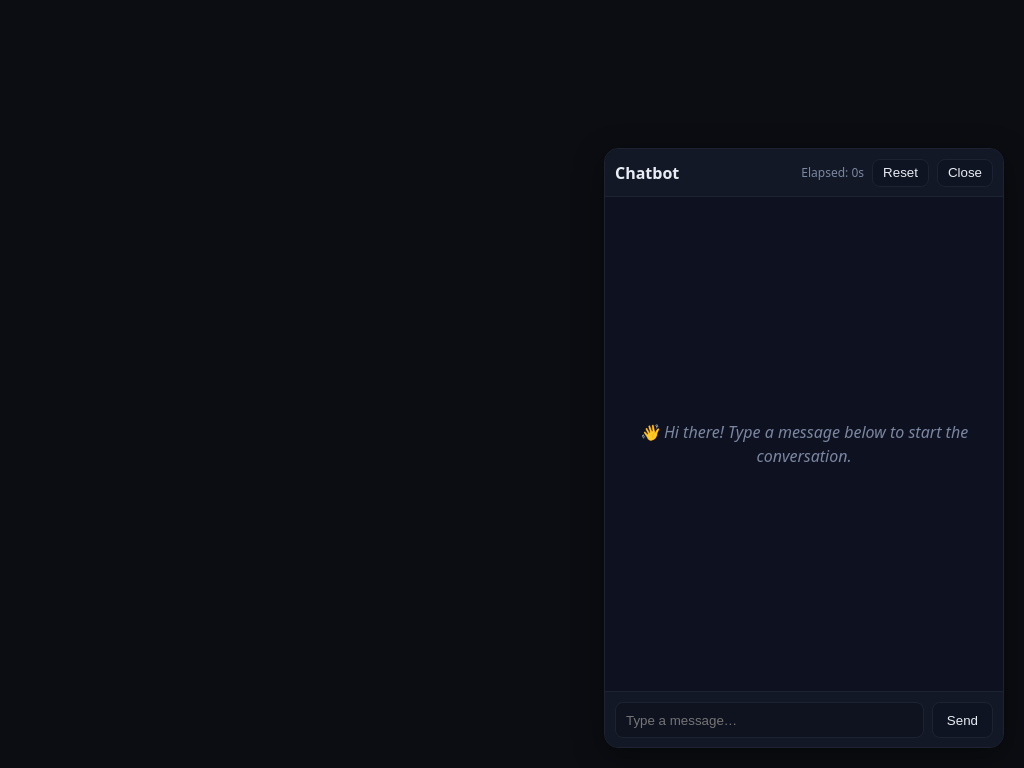
Test case: ChatWindow › sends on Enter (no Shift)
The width and height of the screenshot is (1024, 768).
Type "Ping" into the field labelled "Type a message…" at {"x": 769, "y": 720}, box [615,702,924,738]
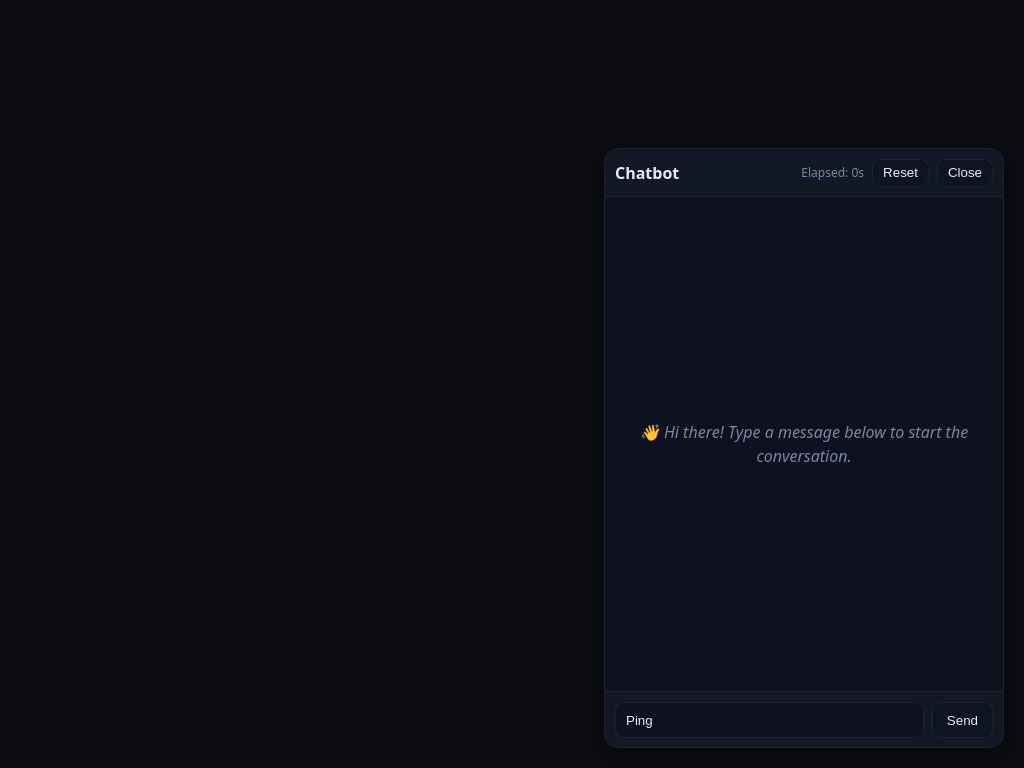
Press Enter in the field named "Type a message", box [615,702,924,738]
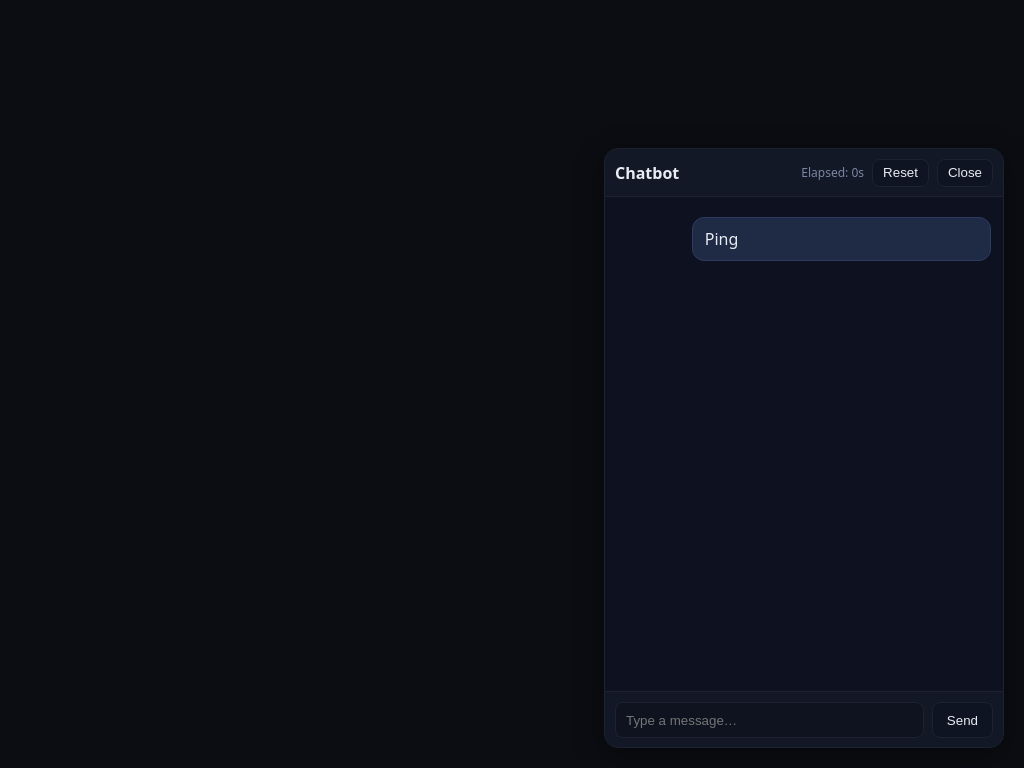
Expected: the text "Ping" is shown, [705,228,738,250]
